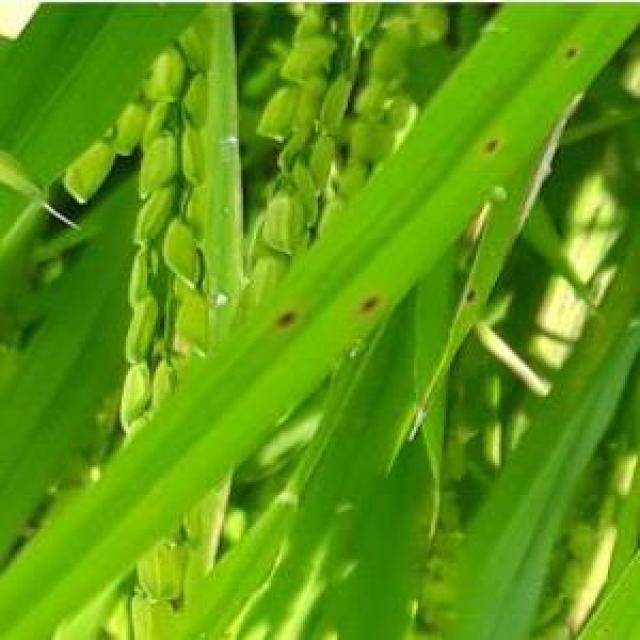Brown_Spot: (270, 308, 302, 337), (479, 136, 512, 152), (563, 44, 585, 63), (361, 294, 378, 316), (467, 276, 476, 310)
